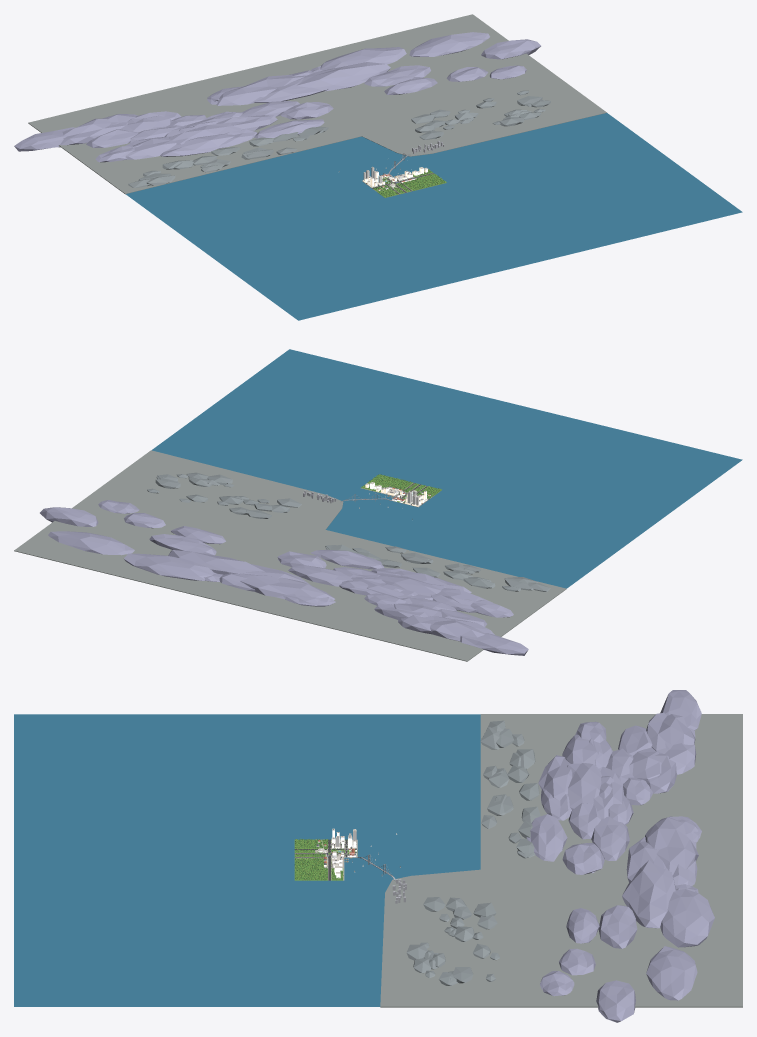
The model's file is talkville.glb.
3 renders of one model, top to bottom at view 1: azimuth 30°, elevation 25°; view 2: azimuth 150°, elevation 25°; view 3: azimuth 270°, elevation 25°, orthographic. The views are drawn at different scales.
Visible parts, largest first — view 1: TV_Water, TV_Bay, TV_Outskirts; view 2: TV_Water, TV_Bay, TV_Outskirts; view 3: TV_Water, TV_Bay, TV_Outskirts.
Part boxes in pixels (bbox=[...]): TV_Water: bbox=[126, 113, 742, 320]; TV_Bay: bbox=[14, 14, 606, 194]; TV_Outskirts: bbox=[378, 167, 446, 197]; TV_Water: bbox=[152, 349, 742, 588]; TV_Bay: bbox=[14, 450, 566, 661]; TV_Outskirts: bbox=[360, 474, 441, 495]; TV_Water: bbox=[14, 714, 480, 1006]; TV_Bay: bbox=[352, 690, 742, 1022]; TV_Outskirts: bbox=[294, 838, 344, 880].
Size of the model in its own units: 2136 by 89.63 by 2000.
